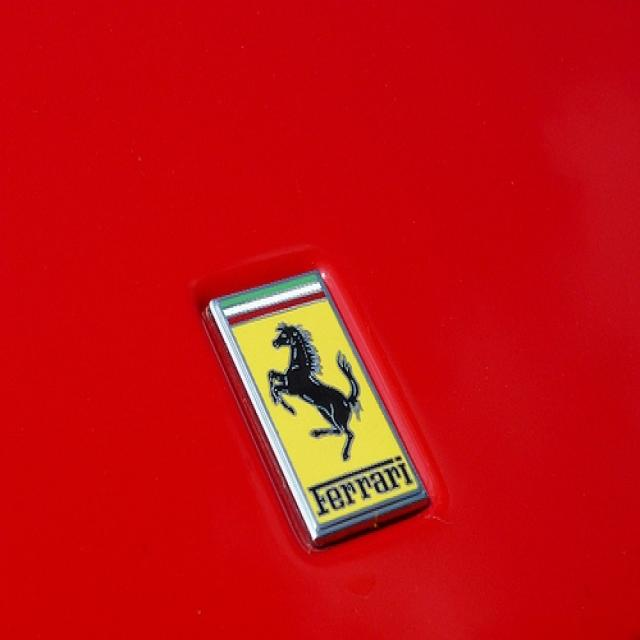ferrari: (214, 270, 424, 534)
